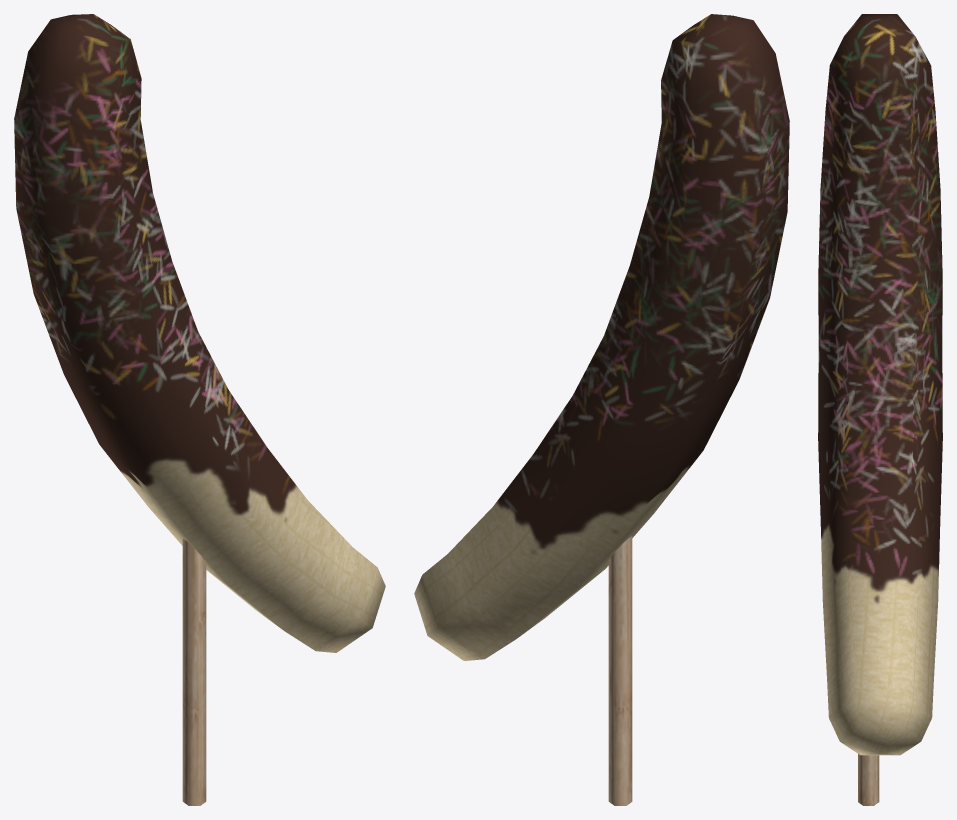
Rendered from FoodProp_E.fbx.
The picture shows the model from 3 angles, left to right: view 1: azimuth 30°, elevation 25°; view 2: azimuth 150°, elevation 25°; view 3: azimuth 270°, elevation 25°; orthographic projection. The views are drawn at different scales.
Visible parts, largest first — view 1: FoodProp_E; view 2: FoodProp_E; view 3: FoodProp_E.
Part boxes in pixels (<box>): FoodProp_E: <box>14,14,385,805</box>; FoodProp_E: <box>414,14,789,805</box>; FoodProp_E: <box>818,14,942,805</box>.
Bounding box in the file's own units: 0.1823 × 0.4063 × 0.0624.
